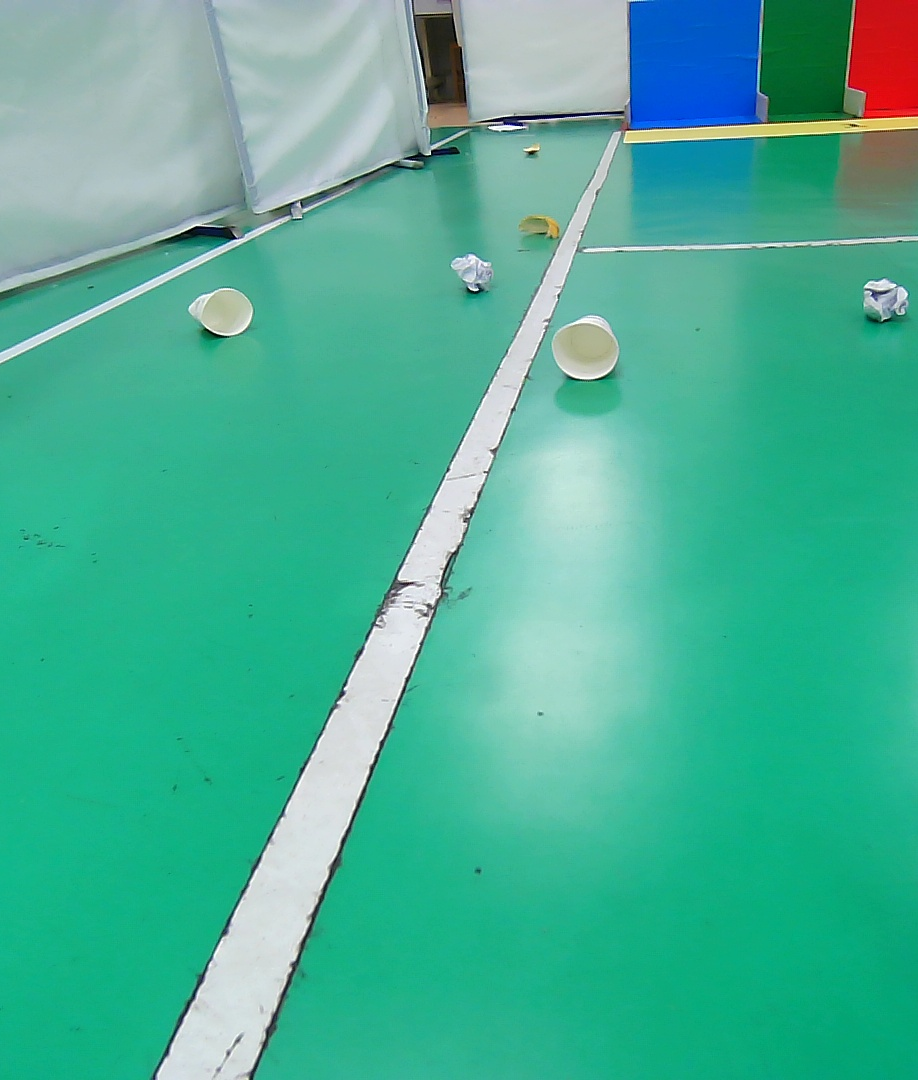orangepeel: (515, 212, 563, 242), (517, 139, 549, 160)
papercup: (549, 311, 620, 381), (185, 286, 257, 337)
spitball: (860, 276, 911, 326), (448, 253, 496, 295)
